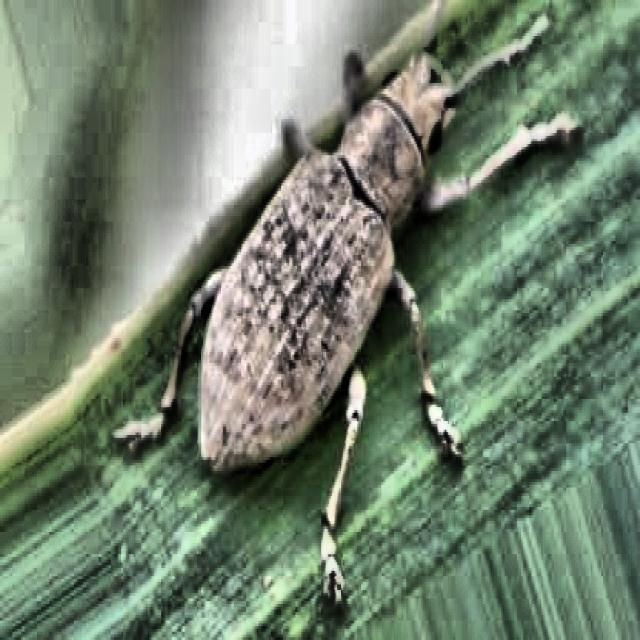Stink bug: (152, 23, 538, 531)
